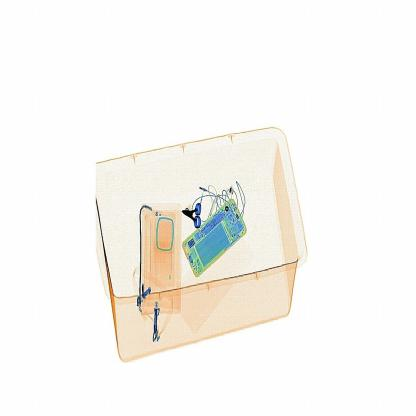gun: (174, 191, 210, 235)
